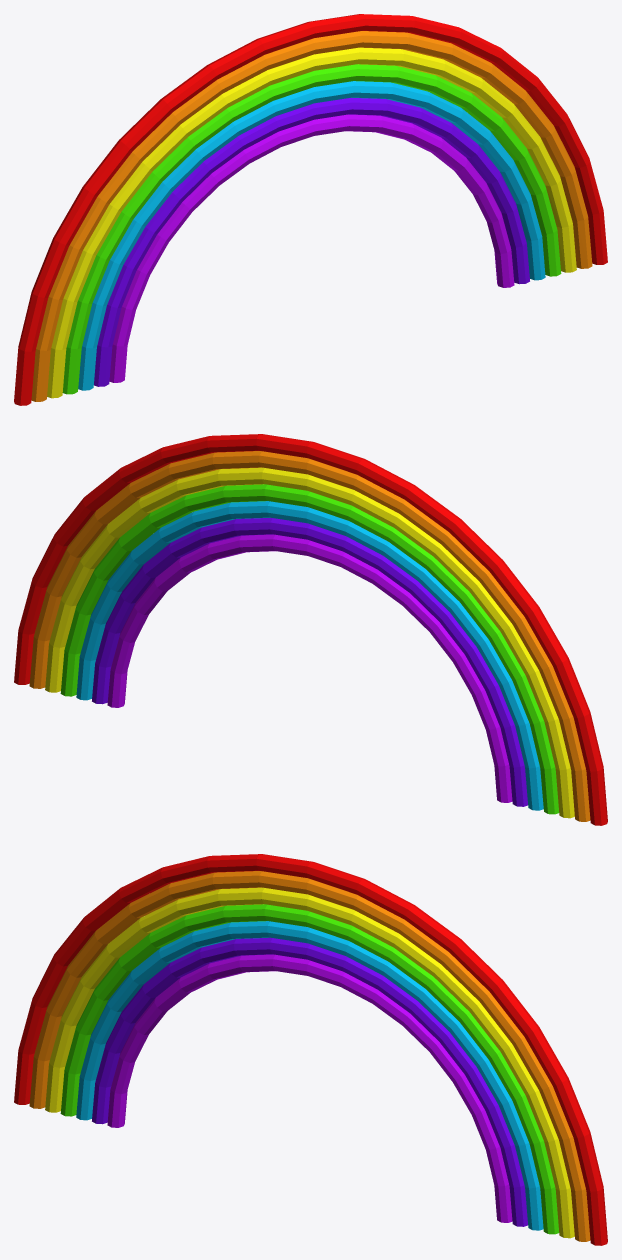
File: Rainbow .fbx
The picture shows the model from 3 angles, top to bottom: view 1: azimuth 30°, elevation 25°; view 2: azimuth 150°, elevation 25°; view 3: azimuth 330°, elevation 25°; orthographic projection.
Size of the model in its own units: 389 by 195 by 10.24.
